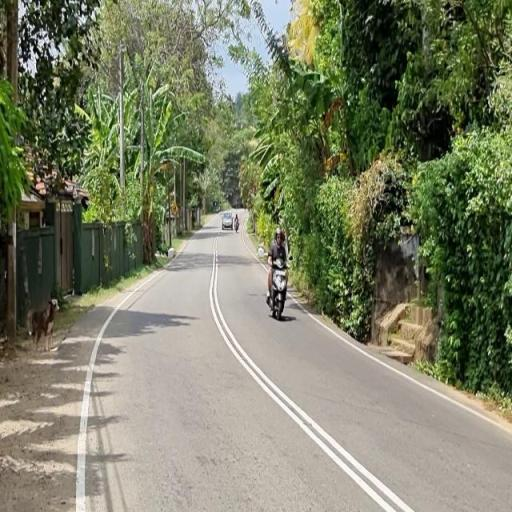double_white_line: (206, 241, 414, 512)
